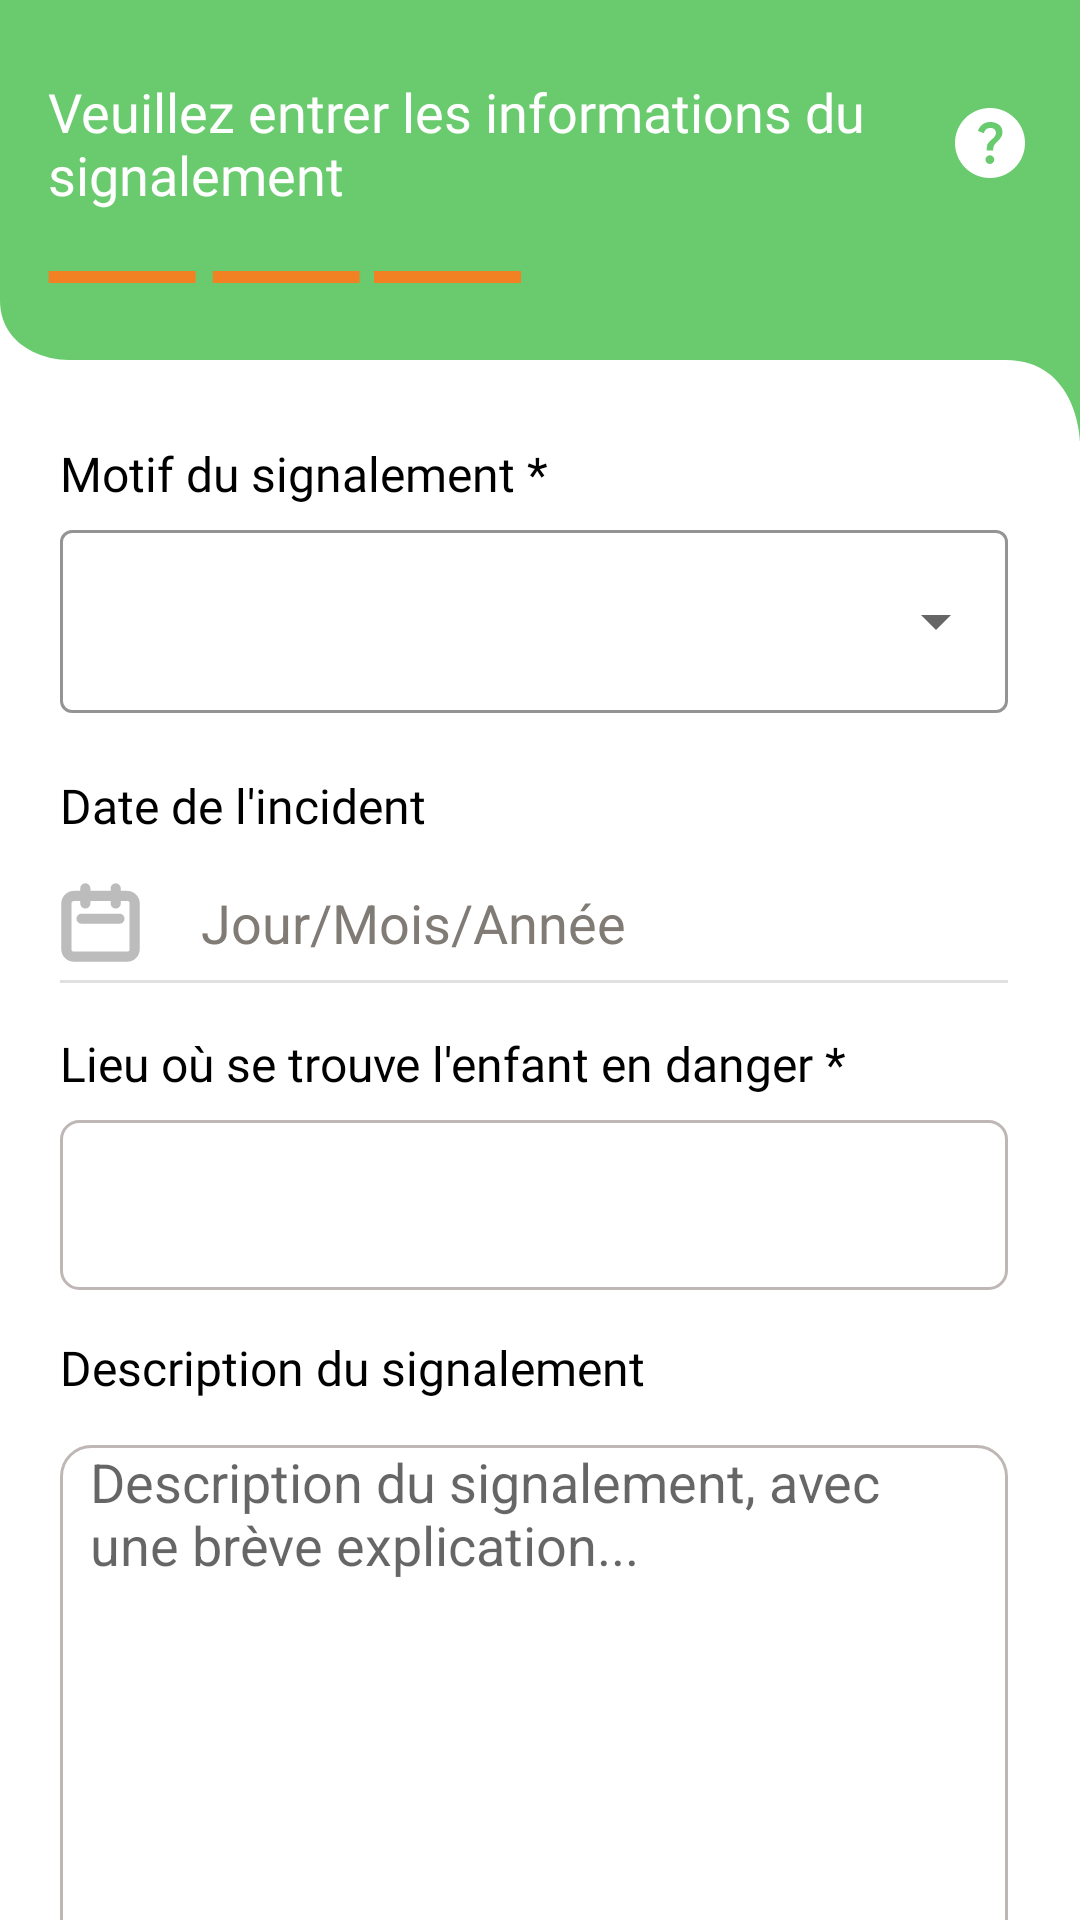

Screen size 1080×1920. Icon name, then its center in pixels as [x,y]:
calendar: [100,922]
question: [990,143]
